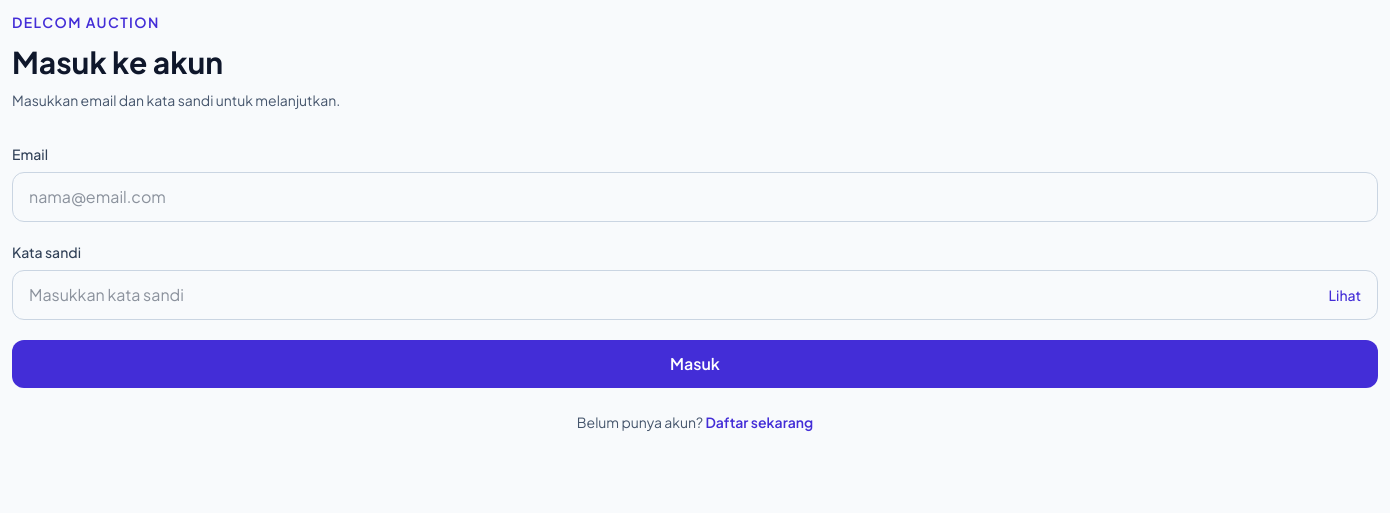
it: LoginPage › memvalidasi format email
The image size is (1390, 513).
Type "salah" into the field with id "login-email-input" at {"x": 695, "y": 197}, box x1=12 y1=172 x2=1378 y2=222
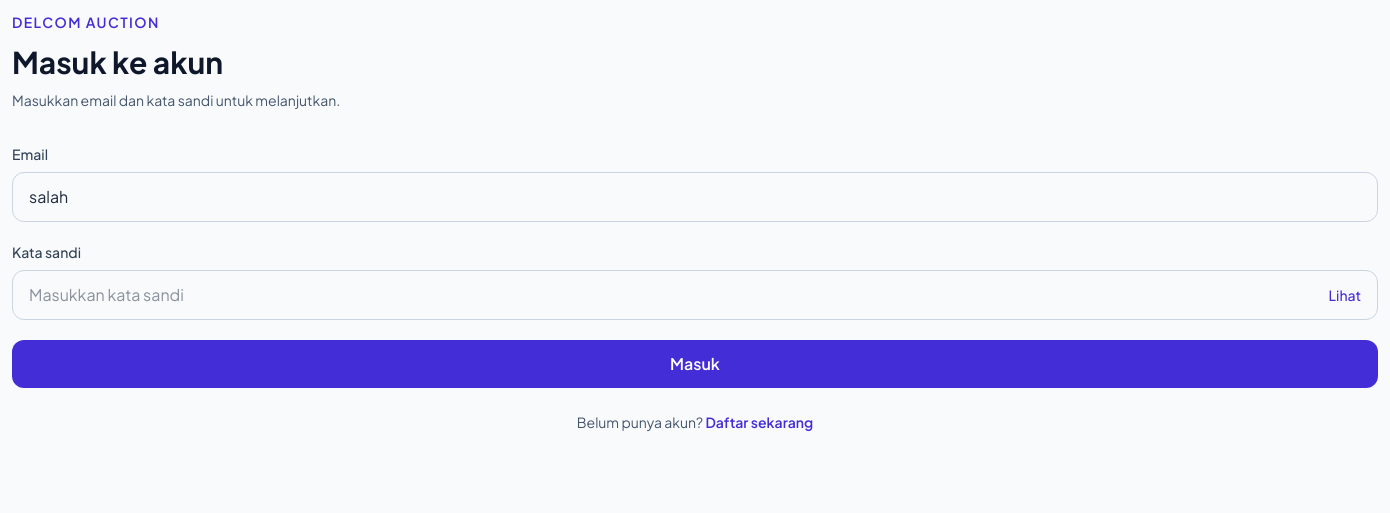
Type "rahasia" into the password field with id "login-password-input" at {"x": 663, "y": 295}, box x1=13 y1=271 x2=1313 y2=319
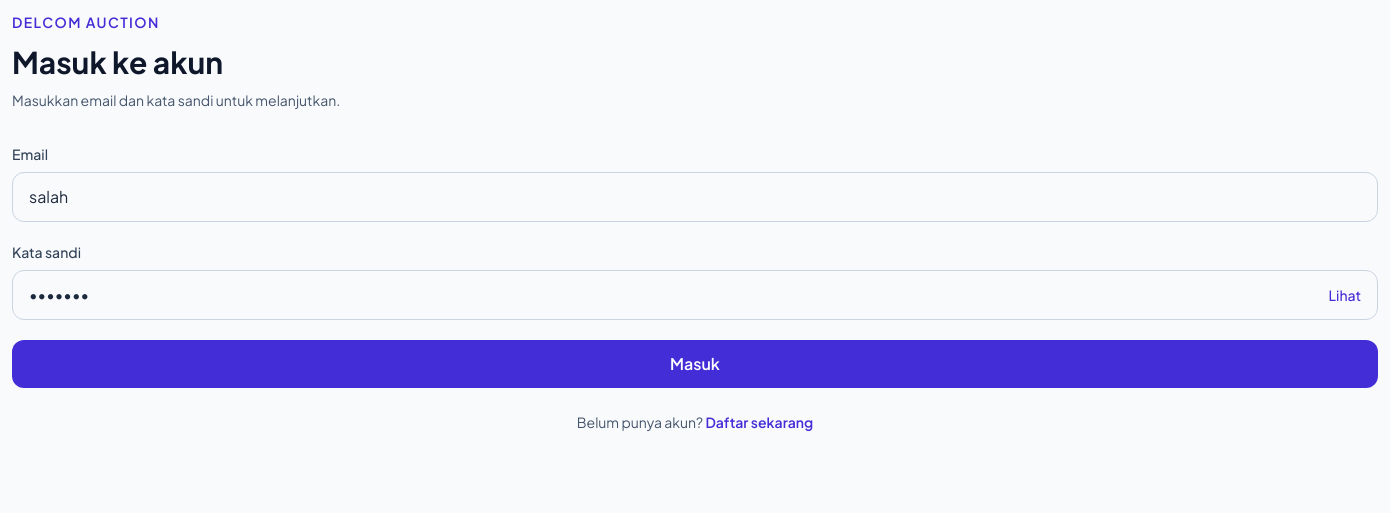
Submit the form, box x1=12 y1=144 x2=1378 y2=388
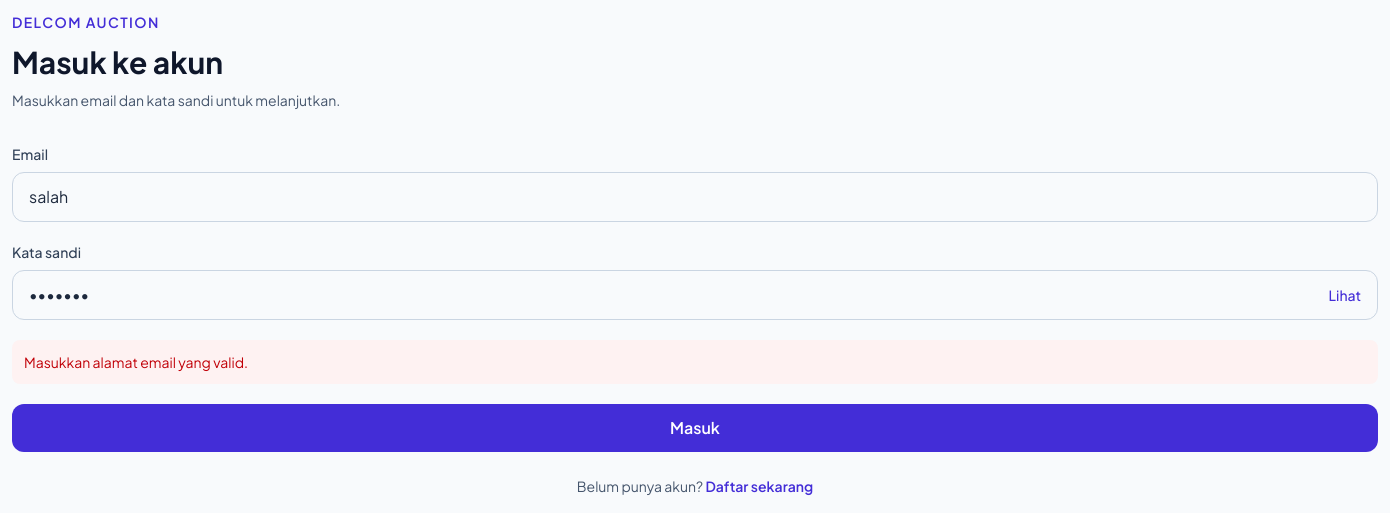
Expected: the message "Masukkan alamat email yang valid." is shown, x1=12 y1=340 x2=1378 y2=384
